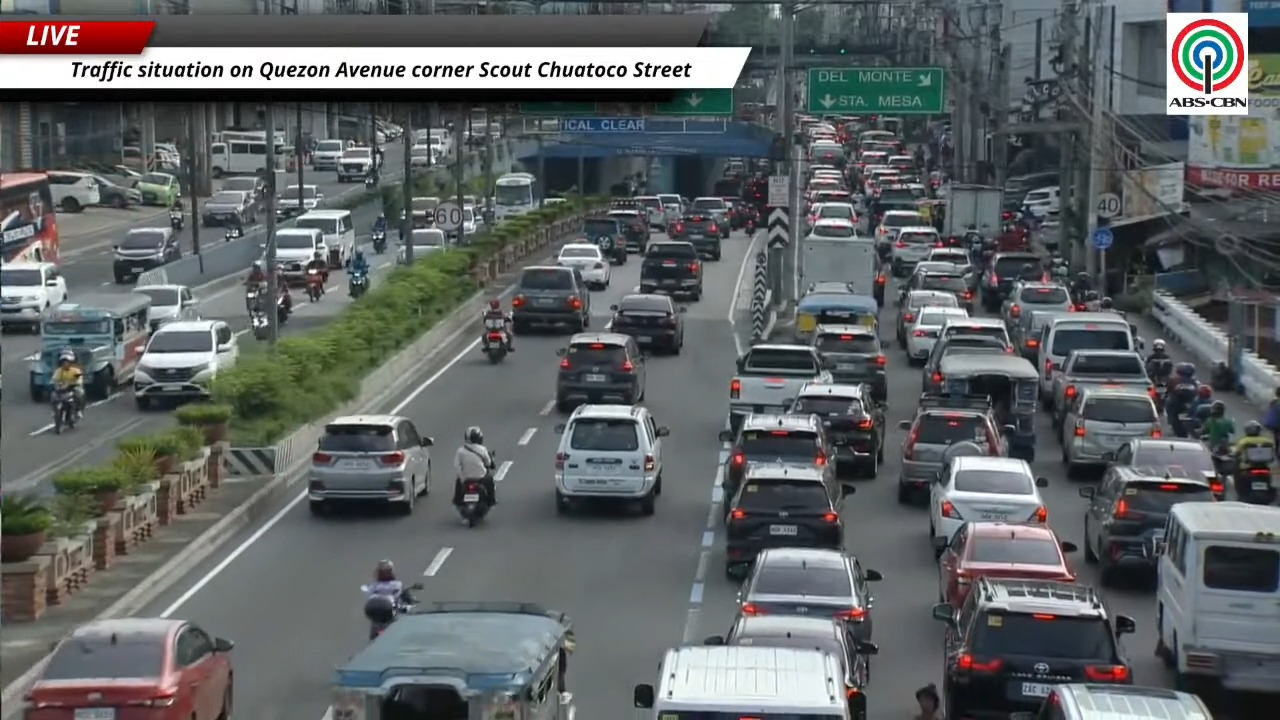bus: (0, 172, 57, 262), (209, 140, 292, 177), (493, 173, 538, 220), (210, 130, 264, 142)
car: (933, 578, 1135, 717), (21, 618, 233, 719), (704, 615, 877, 719), (1079, 465, 1214, 586), (725, 462, 854, 578), (738, 547, 881, 640), (307, 415, 433, 514), (555, 404, 668, 514), (898, 394, 1006, 503), (938, 521, 1076, 606), (930, 456, 1047, 556), (719, 413, 835, 498), (132, 319, 238, 409), (1059, 385, 1161, 476), (790, 383, 886, 478), (1051, 350, 1157, 430), (1009, 682, 1211, 719), (1104, 438, 1224, 499), (555, 333, 646, 412), (810, 323, 887, 401), (511, 265, 589, 333), (922, 335, 1009, 391), (0, 262, 67, 332), (607, 294, 686, 353), (981, 252, 1047, 312), (639, 241, 703, 301), (113, 227, 181, 283), (896, 290, 958, 349), (905, 306, 968, 364), (1001, 281, 1073, 328), (577, 215, 646, 264), (903, 266, 973, 313), (132, 284, 199, 331), (1010, 309, 1066, 363), (275, 227, 327, 283), (939, 316, 1012, 352), (668, 210, 721, 259), (891, 224, 939, 276), (557, 243, 611, 289), (47, 171, 100, 212), (899, 259, 953, 296), (201, 190, 256, 226), (607, 207, 650, 252), (396, 228, 449, 264), (689, 196, 730, 238), (90, 175, 141, 208), (134, 172, 181, 206), (276, 184, 323, 216), (335, 146, 376, 182), (926, 247, 971, 274), (810, 202, 859, 226), (311, 140, 350, 170), (635, 195, 667, 231), (220, 176, 266, 200), (806, 218, 856, 239), (809, 189, 851, 210), (721, 196, 744, 229)
motorcycle: (361, 584, 414, 639), (1233, 446, 1276, 504), (1209, 445, 1237, 499), (458, 481, 490, 527), (51, 388, 75, 433), (484, 330, 508, 363), (305, 269, 323, 302), (348, 269, 368, 297), (250, 311, 269, 340), (276, 294, 290, 326), (245, 286, 262, 312), (1050, 258, 1068, 282), (371, 230, 386, 253), (169, 209, 184, 231), (224, 226, 243, 241), (744, 215, 756, 236), (364, 173, 378, 189)
truck: (728, 343, 831, 436), (1052, 349, 1155, 426), (797, 235, 883, 305), (942, 183, 1003, 237)
